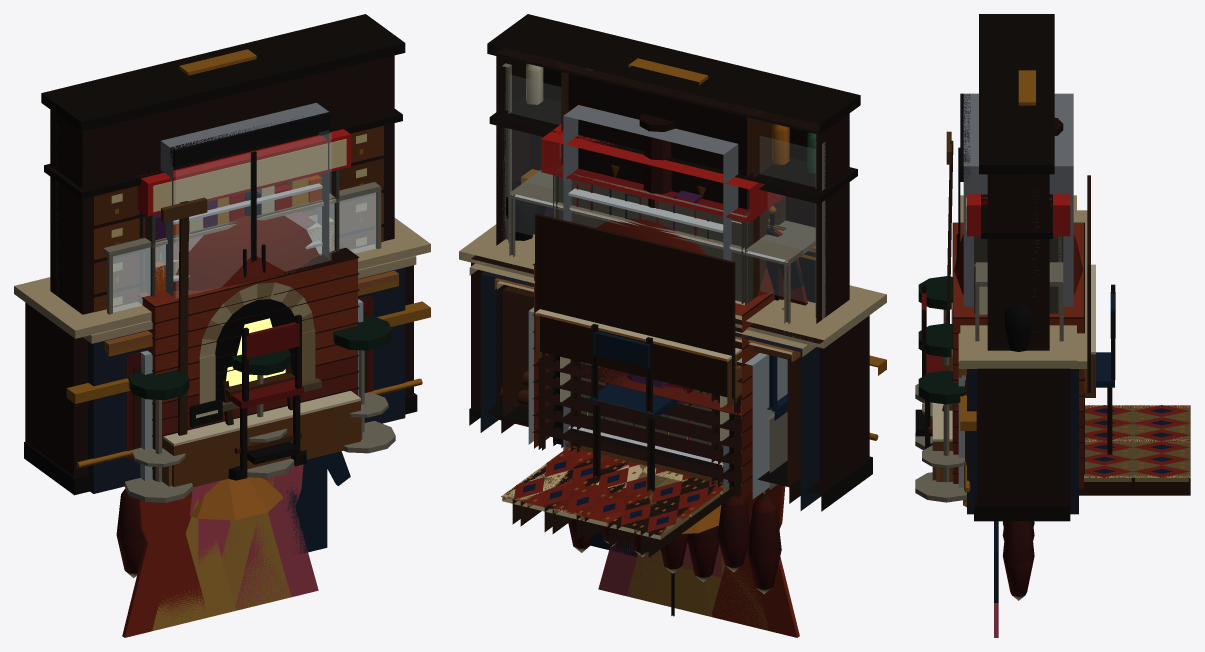
File: kit-interior.meshopt.glb
3 renders of one model, left to right at view 1: azimuth 30°, elevation 25°; view 2: azimuth 150°, elevation 25°; view 3: azimuth 270°, elevation 25°, orthographic. The views are drawn at different scales.
Visible parts, largest first — view 1: cajonera.botica, horno.ladrillo, mostrador.bar_cafe, nevera.vitrina, percha.pared, gondola.doble, ventanilla.banco, zapatos.escalonado, mostrador.vitrina_carne, mesa.cafe, mostrador.vitrina_dulces, lampara.canasta (+6 smaller); view 2: cajonera.botica, fruteria.escalonada_a, ventanilla.banco, mostrador.bar_cafe, horno.ladrillo, estanteria.botellas.a, gondola.doble, percha.pared, jamones.rail, nevera.vitrina, suelo.hidraulico_terracota, mostrador.madera (+18 smaller); view 3: mostrador.bar_cafe, cajonera.botica, nevera.vitrina, horno.ladrillo, suelo.hidraulico_terracota, techo.casetones, ventanilla.banco, gondola.doble, mesa.cafe, jamones.rail, techo.vigas, zapatos.escalonado (+6 smaller).
Boxes of the visible parts, x1,y1,x2,y2 form: cajonera.botica: [41, 14, 405, 314]; horno.ladrillo: [137, 197, 359, 480]; mostrador.bar_cafe: [14, 218, 430, 502]; nevera.vitrina: [160, 102, 330, 297]; percha.pared: [122, 451, 350, 637]; gondola.doble: [137, 129, 350, 296]; ventanilla.banco: [55, 124, 416, 493]; zapatos.escalonado: [163, 390, 360, 487]; mostrador.vitrina_carne: [103, 182, 381, 459]; mesa.cafe: [227, 314, 303, 478]; mostrador.vitrina_dulces: [113, 193, 375, 311]; lampara.canasta: [190, 477, 283, 520]; cajonera.botica: [487, 14, 860, 421]; fruteria.escalonada_a: [535, 214, 741, 498]; ventanilla.banco: [469, 63, 825, 510]; mostrador.bar_cafe: [459, 180, 886, 511]; horno.ladrillo: [495, 113, 775, 499]; estanteria.botellas.a: [557, 61, 784, 298]; gondola.doble: [541, 124, 785, 488]; percha.pared: [591, 484, 799, 637]; jamones.rail: [568, 491, 781, 594]; nevera.vitrina: [563, 105, 738, 489]; suelo.hidraulico_terracota: [501, 447, 723, 532]; mostrador.madera: [494, 278, 800, 503]; mostrador.bar_cafe: [915, 195, 1076, 521]; cajonera.botica: [979, 14, 1054, 350]; nevera.vitrina: [956, 93, 1073, 306]; horno.ladrillo: [946, 117, 1084, 488]; suelo.hidraulico_terracota: [1084, 405, 1190, 477]; techo.casetones: [1084, 405, 1190, 481]; ventanilla.banco: [958, 188, 1087, 514]; gondola.doble: [966, 194, 1070, 314]; mesa.cafe: [921, 284, 1115, 454]; jamones.rail: [1002, 521, 1034, 600]; techo.vigas: [1079, 478, 1190, 495]; zapatos.escalonado: [932, 264, 1095, 480].
Size of the model in its own units: 2.28 by 3.29 by 1.6.
